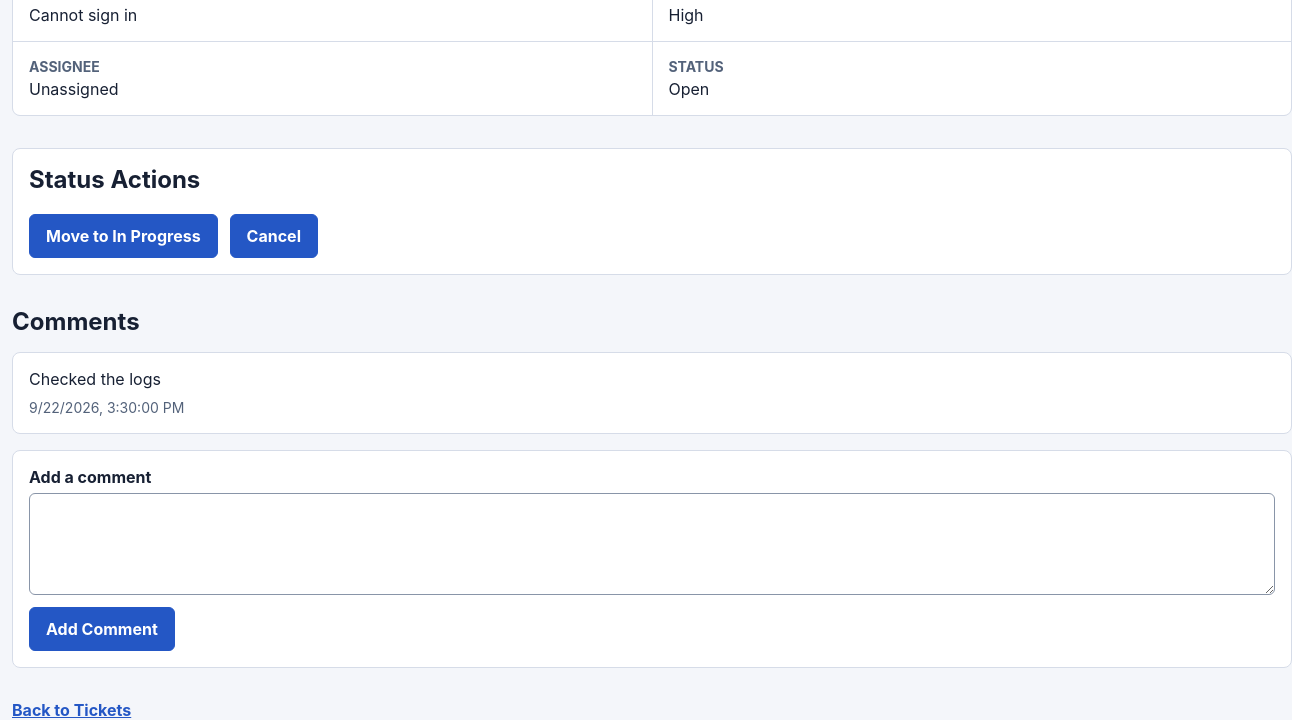
Test case: Ticket Detail and mutations › refreshes terminal comment conflicts and removes mutation controls
This screenshot has width=1292, height=720.
(page scrolled)
Step 1. Type "Keep this text" into the text box labelled "Add a comment" → point(652, 544), box [29,493,1275,595]
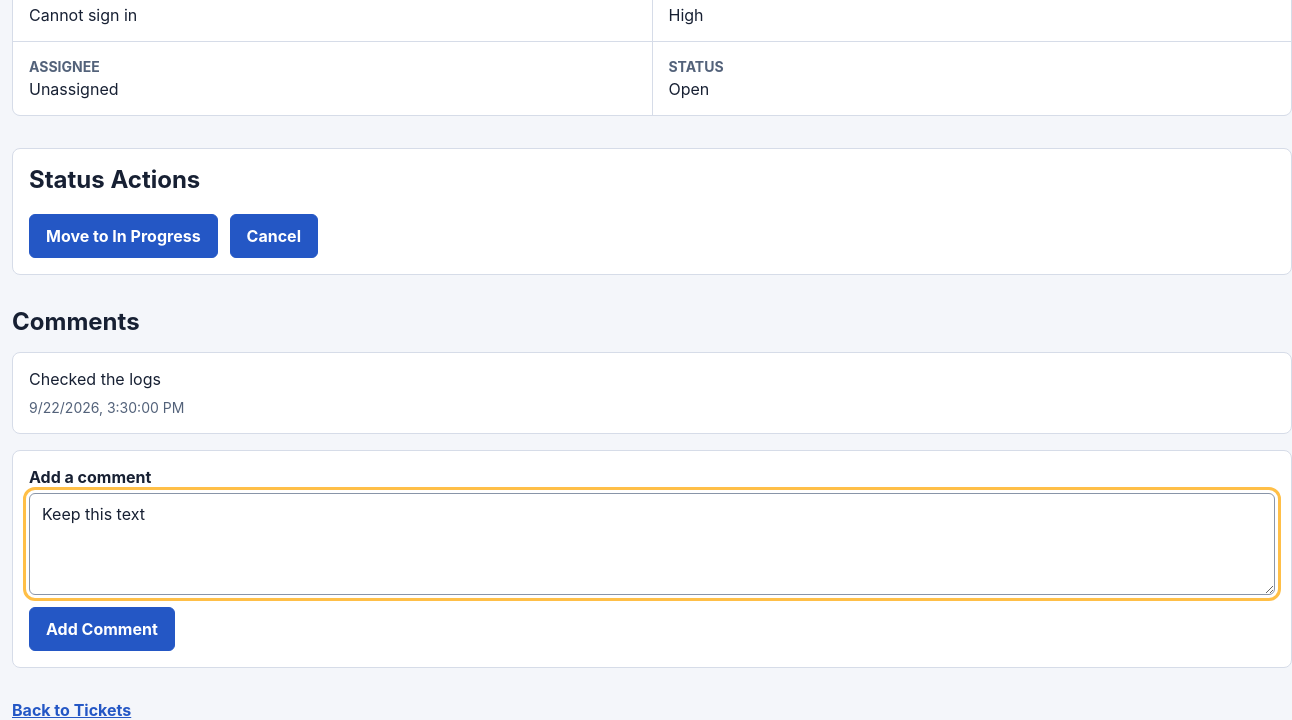
Step 2. Click the button "Add Comment" → point(102, 629), box [29,607,175,651]
(page scrolled)
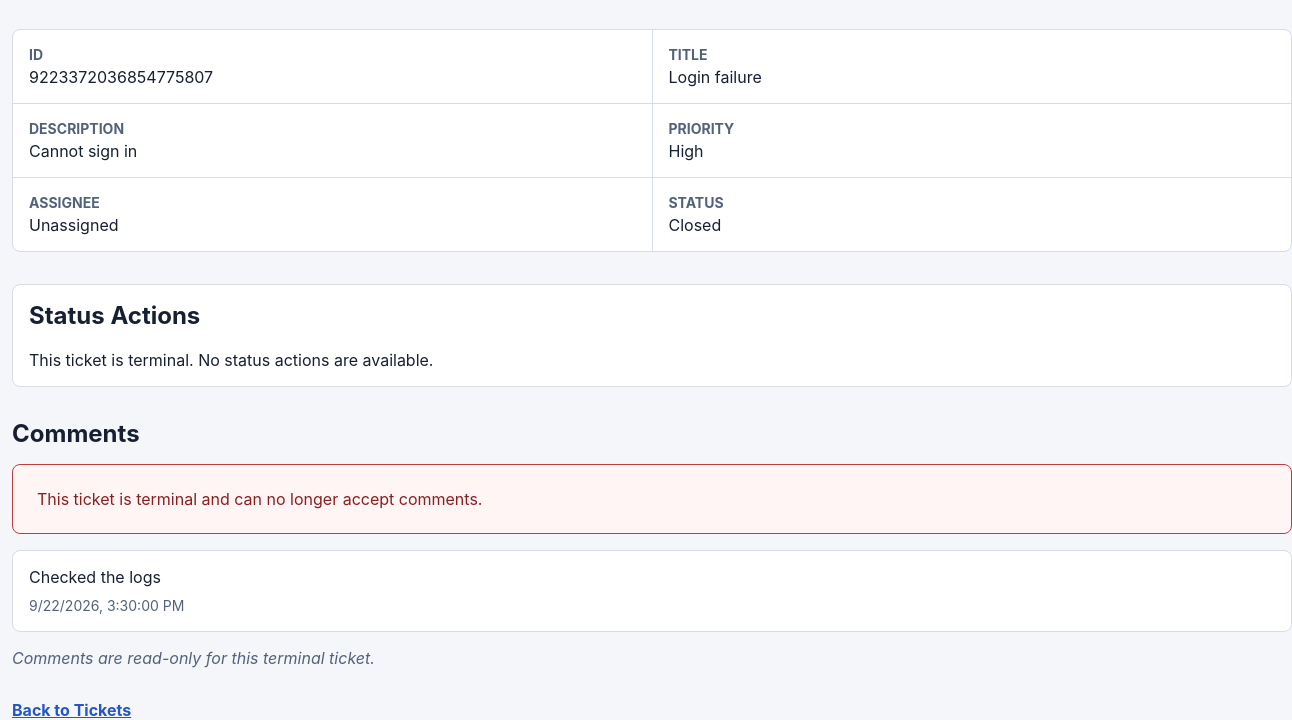
Expected: the message shows "terminal", [37,489,482,509]
Expected: the button "Add Comment" is gone
